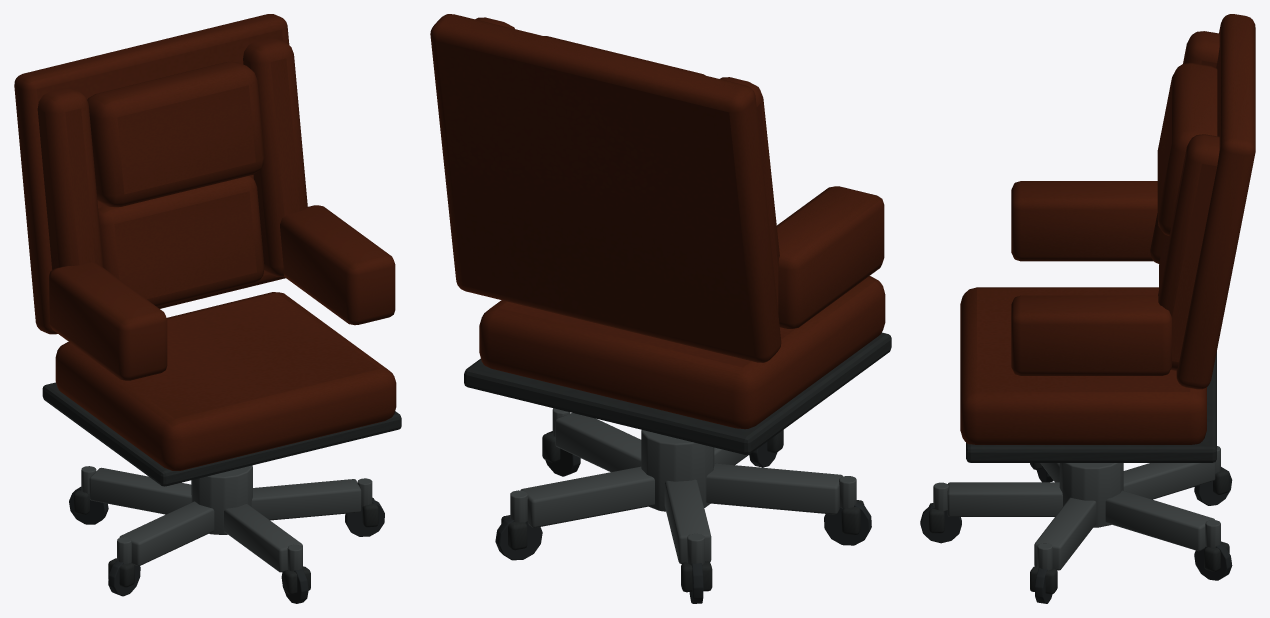
The model's file is chair_premium_lod1.glb.
The picture shows the model from 3 angles, left to right: view 1: azimuth 30°, elevation 25°; view 2: azimuth 150°, elevation 25°; view 3: azimuth 270°, elevation 25°; orthographic projection. The views are drawn at different scales.
Parts seen in each view (by area): view 1: OfficeLeather_LOD1, OfficeMetal_LOD1, OfficePlastic_LOD1, OfficeCasterRubberSet_LOD1; view 2: OfficeLeather_LOD1, OfficeMetal_LOD1, OfficePlastic_LOD1, OfficeCasterRubberSet_LOD1; view 3: OfficeLeather_LOD1, OfficeMetal_LOD1, OfficePlastic_LOD1, OfficeCasterRubberSet_LOD1.
Boxes of the visible parts, x1,y1,x2,y2 form: OfficeLeather_LOD1: [14, 14, 396, 470]; OfficeMetal_LOD1: [74, 465, 378, 594]; OfficePlastic_LOD1: [42, 382, 401, 486]; OfficeCasterRubberSet_LOD1: [69, 487, 384, 603]; OfficeLeather_LOD1: [430, 14, 885, 429]; OfficeMetal_LOD1: [501, 408, 864, 592]; OfficePlastic_LOD1: [464, 332, 891, 454]; OfficeCasterRubberSet_LOD1: [495, 431, 871, 603]; OfficeLeather_LOD1: [960, 14, 1255, 444]; OfficeMetal_LOD1: [929, 446, 1229, 594]; OfficePlastic_LOD1: [966, 351, 1216, 462]; OfficeCasterRubberSet_LOD1: [920, 466, 1232, 603].
Size of the model in its own units: 0.746 by 1.17 by 0.7612.
Materials: 4 (2 with a texture image).
